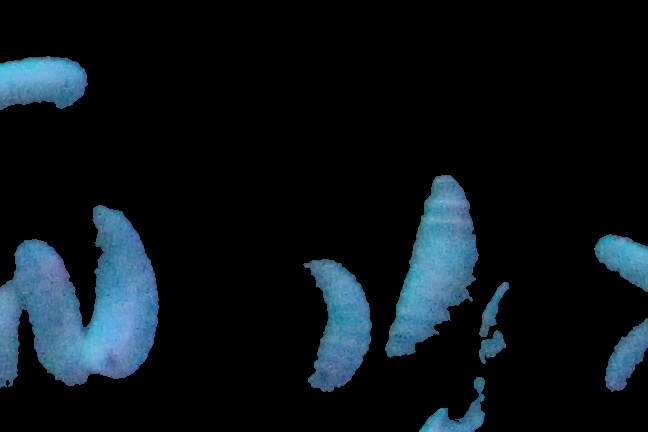larvae: (389, 174, 478, 379), (86, 203, 155, 376), (295, 255, 372, 402), (12, 240, 78, 382), (1, 57, 84, 115), (1, 279, 26, 404)
